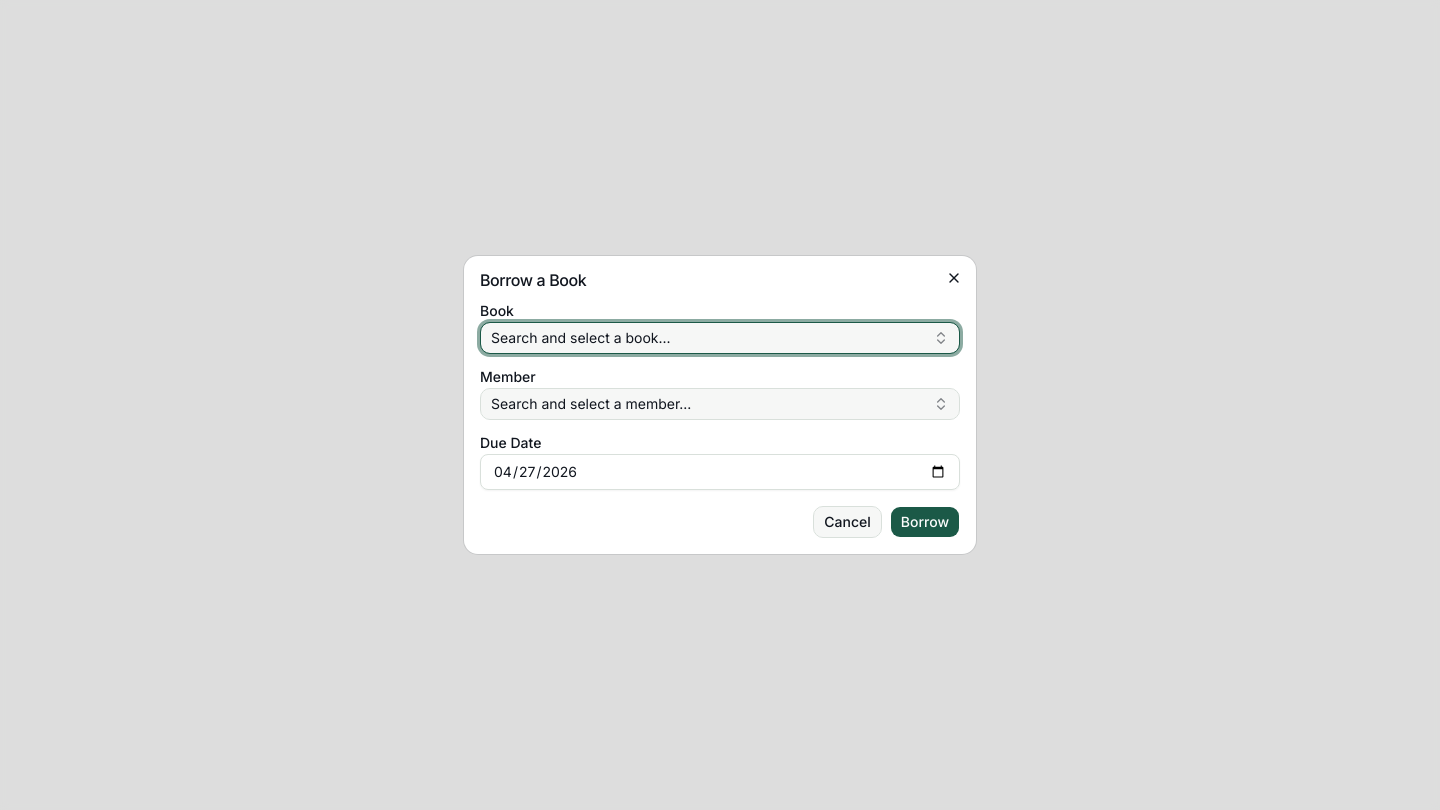
Test: BorrowForm › shows validation errors when submitting without selecting book or member
Click the button "Borrow".
click(925, 522)  # box x1=890 y1=506 x2=960 y2=538
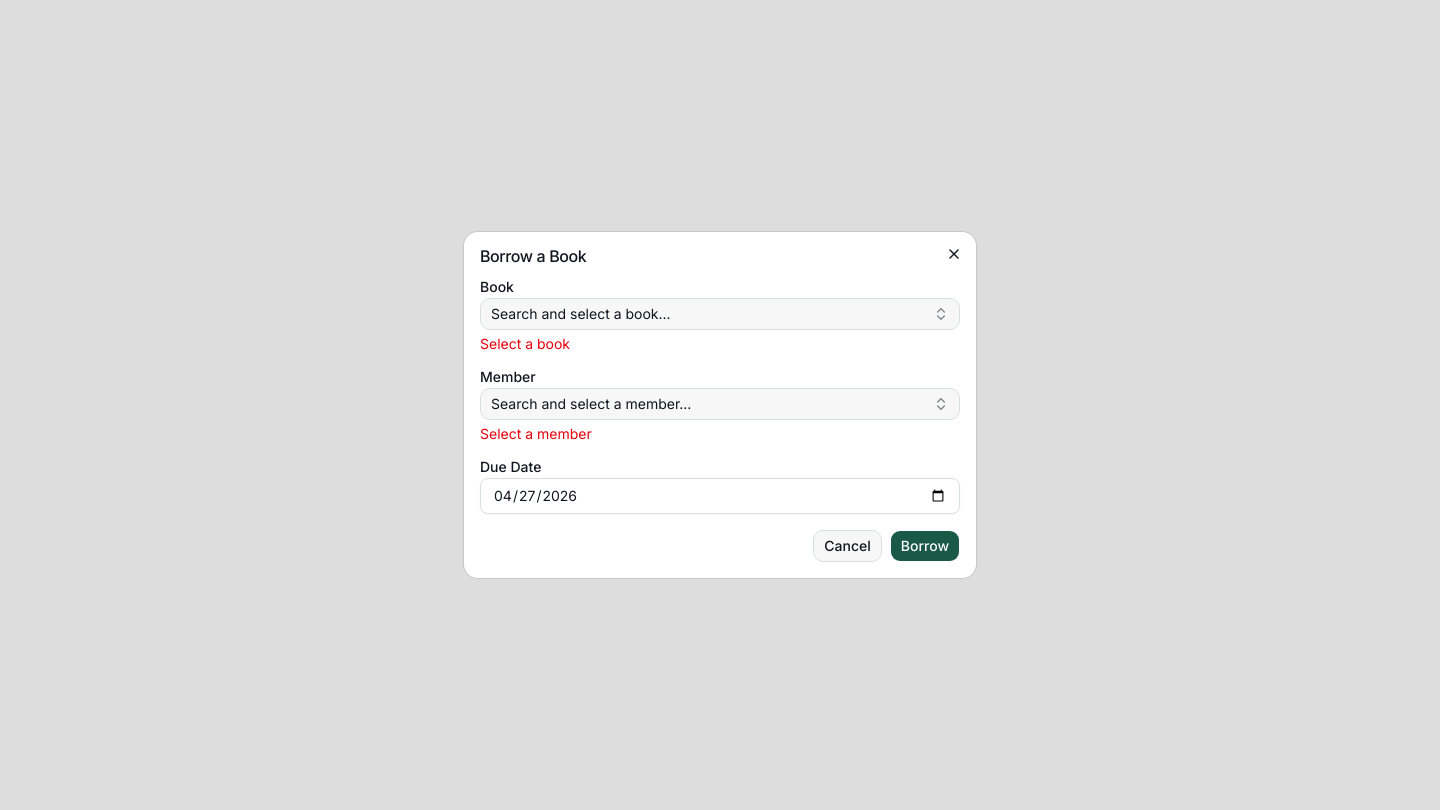
expect the text "Select a book" is shown: met, box x1=480 y1=335 x2=570 y2=352
expect the text "Select a member" is shown: met, box x1=480 y1=425 x2=592 y2=442
